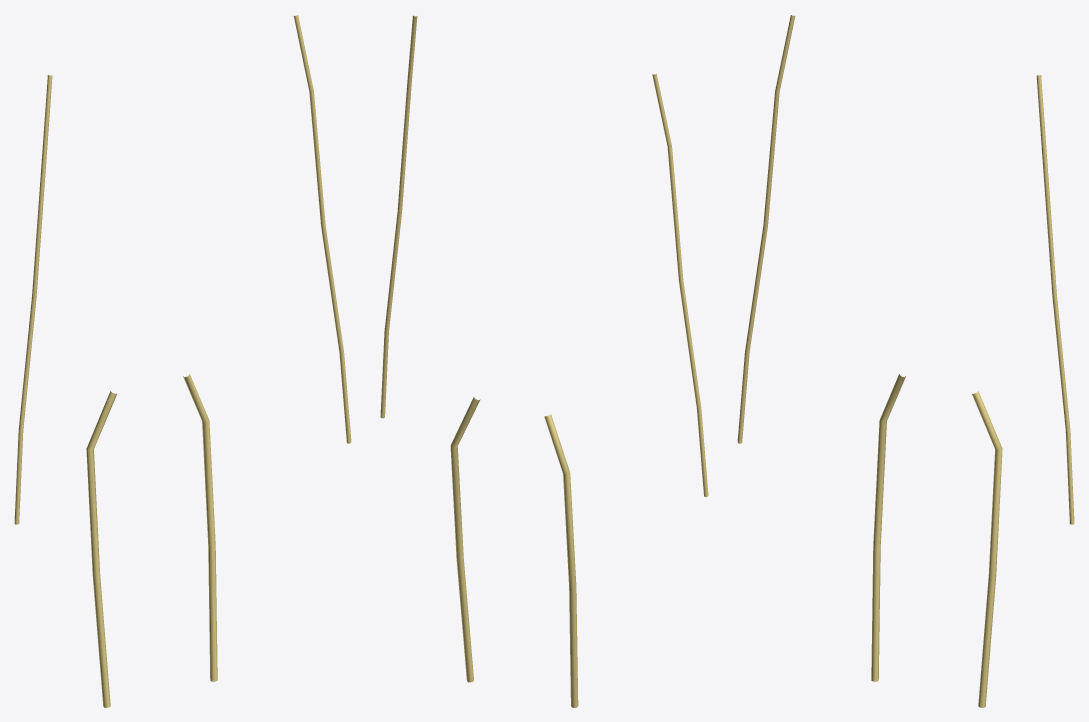
The model's file is nerves.glb.
3 views of the same model, side by side, from view 1: azimuth 30°, elevation 25°; view 2: azimuth 150°, elevation 25°; view 3: azimuth 330°, elevation 25° (orthographic). The views are drawn at different scales.
Parts seen in each view (by area): view 1: Sciatic nerve.R, Sciatic nerve.L, Median nerve.R, Median nerve.L; view 2: Sciatic nerve.R, Sciatic nerve.L, Median nerve.R, Median nerve.L; view 3: Sciatic nerve.L, Sciatic nerve.R, Median nerve.L, Median nerve.R.
Part boxes in pixels (bbox=[...]): Sciatic nerve.R: bbox=[86, 391, 116, 707]; Sciatic nerve.L: bbox=[183, 374, 217, 681]; Median nerve.R: bbox=[14, 75, 52, 524]; Median nerve.L: bbox=[293, 15, 351, 443]; Sciatic nerve.R: bbox=[544, 414, 578, 707]; Sciatic nerve.L: bbox=[450, 397, 480, 682]; Median nerve.R: bbox=[652, 73, 708, 496]; Median nerve.L: bbox=[380, 15, 417, 418]; Sciatic nerve.L: bbox=[972, 391, 1002, 707]; Sciatic nerve.R: bbox=[871, 374, 905, 681]; Median nerve.L: bbox=[1036, 75, 1074, 524]; Median nerve.R: bbox=[737, 15, 795, 443].
Bounding box in the file's own units: 0.4649 × 0.8709 × 0.0913.
